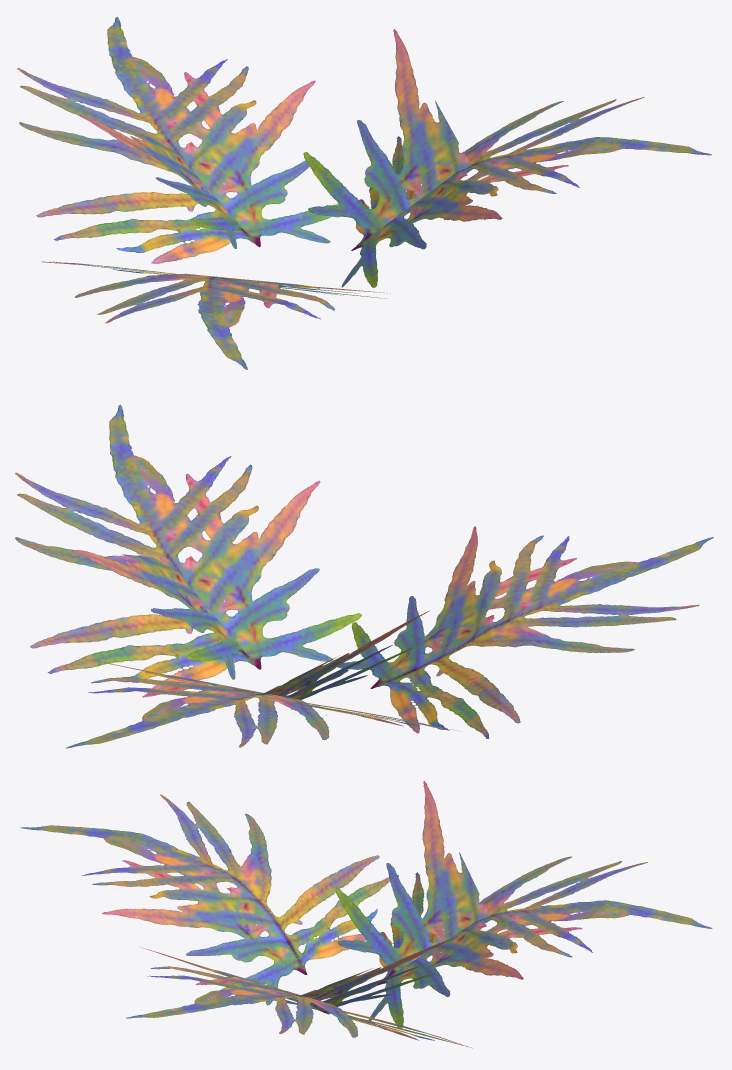
File: Painter Wort B.fbx
3 renders of one model, top to bottom at view 1: azimuth 30°, elevation 25°; view 2: azimuth 150°, elevation 25°; view 3: azimuth 270°, elevation 25°, orthographic. The views are drawn at different scales.
Visible parts, largest first — view 1: Painter Wort B; view 2: Painter Wort B; view 3: Painter Wort B.
Part boxes in pixels (x1,y1,x2,y2): Painter Wort B: (17, 16, 711, 369); Painter Wort B: (15, 404, 713, 748); Painter Wort B: (20, 781, 712, 1048).
Bounding box in the file's own units: 112 × 32.98 × 124.
